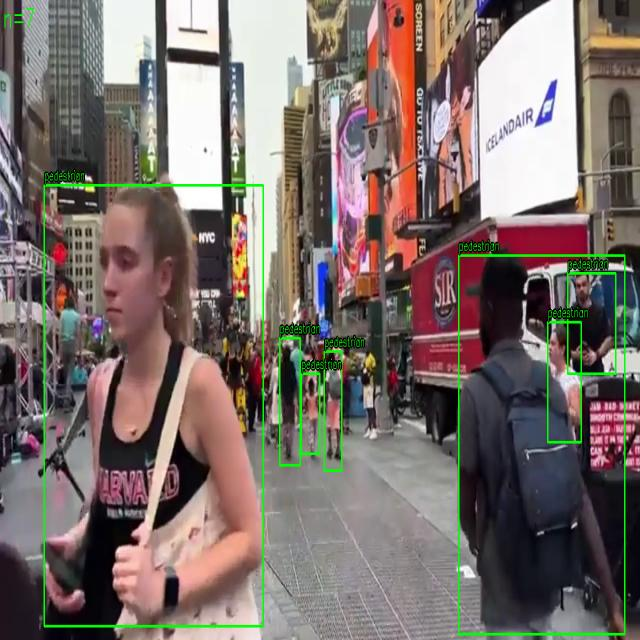with scooter: (44, 185, 264, 627), (459, 255, 625, 635), (568, 273, 616, 374), (548, 322, 582, 442), (280, 338, 300, 466), (324, 351, 342, 471), (301, 374, 320, 454)
